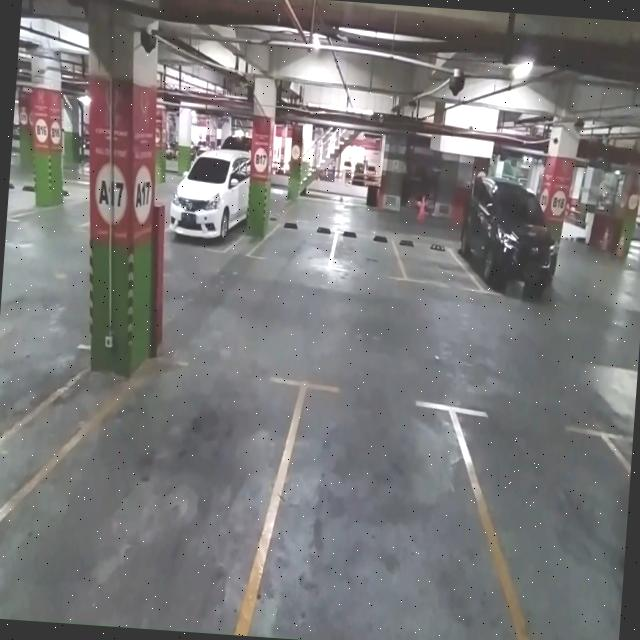empty: (251, 375, 493, 640), (266, 214, 338, 268), (398, 238, 468, 290), (333, 232, 401, 279)
occupied: (462, 197, 562, 301), (167, 154, 249, 255)
